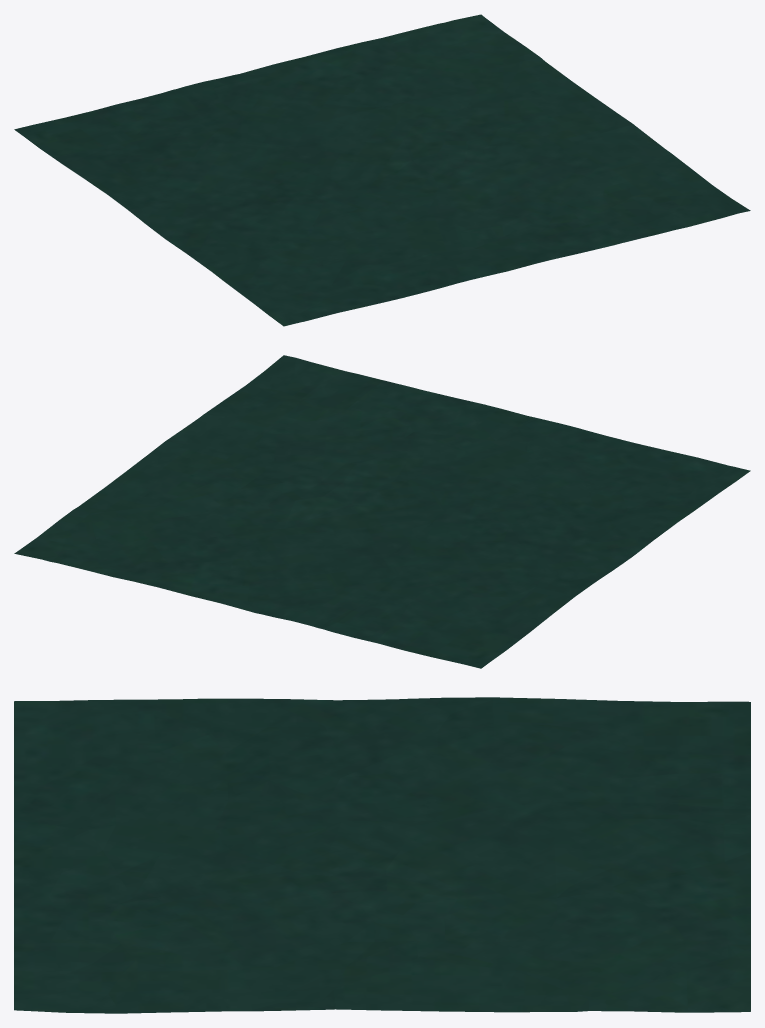
The picture shows the model from 3 angles, top to bottom: view 1: azimuth 30°, elevation 25°; view 2: azimuth 150°, elevation 25°; view 3: azimuth 270°, elevation 25°; orthographic projection. The views are drawn at different scales.
Bounding box in the file's own units: 52.22 × 0.4698 × 52.22.
Materials: 2 (2 with a texture image).
